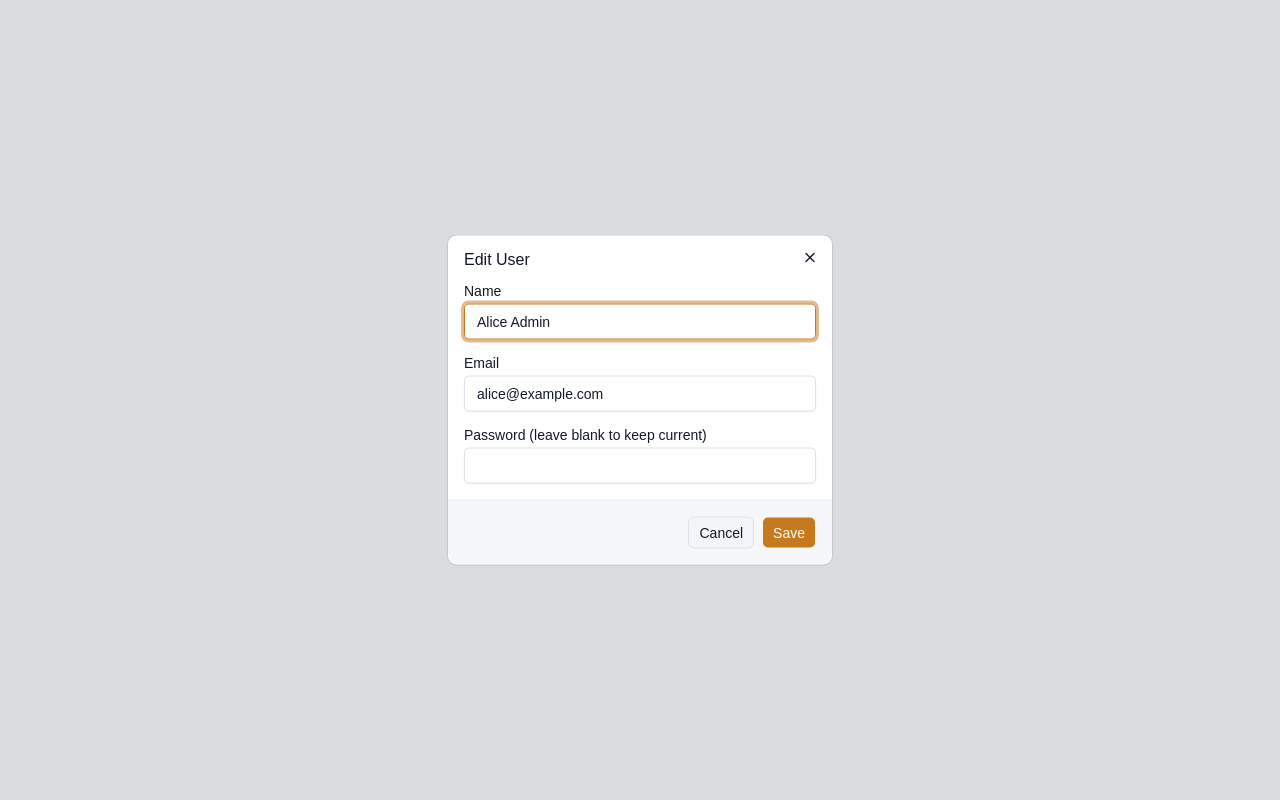
UserFormDialog — Edit mode › Validation › shows an error for an invalid email
Replace the text in the field labelled "Email" with "not-an-email" at point(640, 394), box [464,376,816,412]
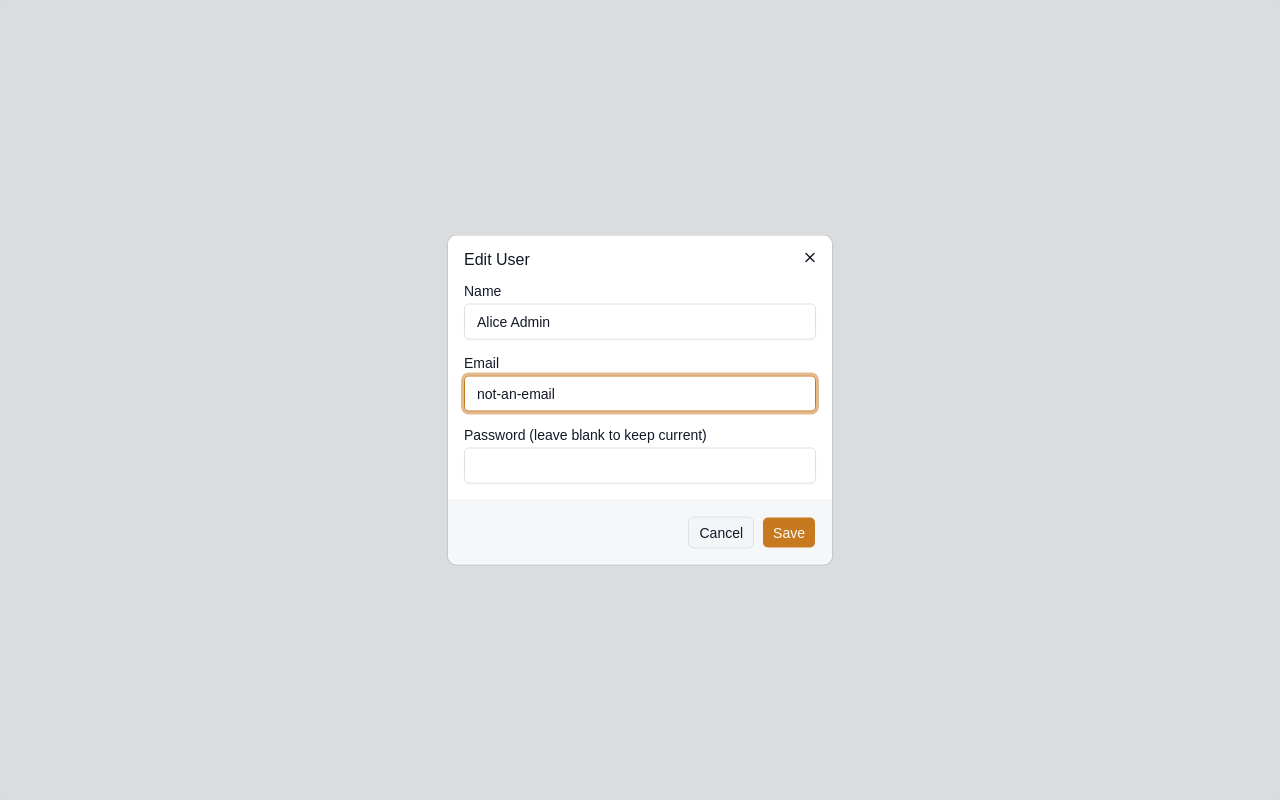
Click the button "Save" at point(789, 532), box [762,516,816,548]
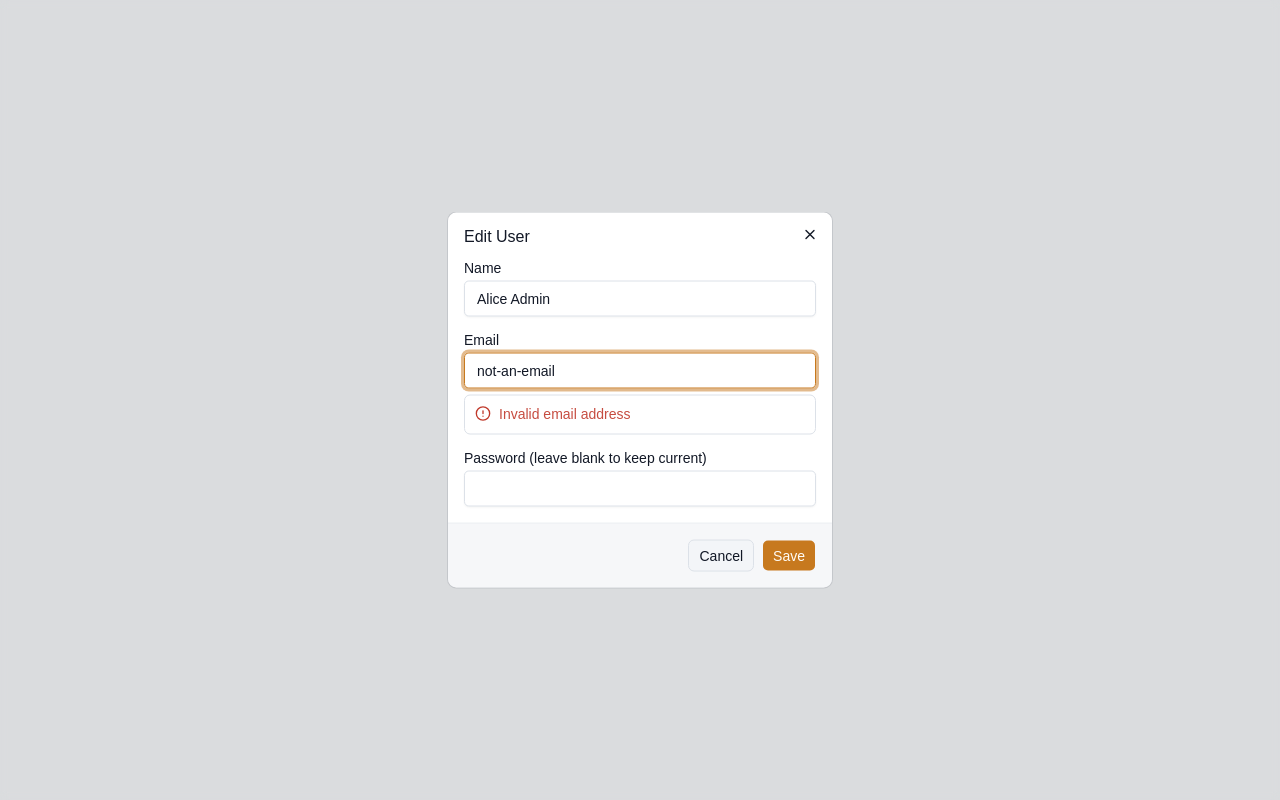
Expected: the text "Invalid email address" is shown, [499,406,630,422]
